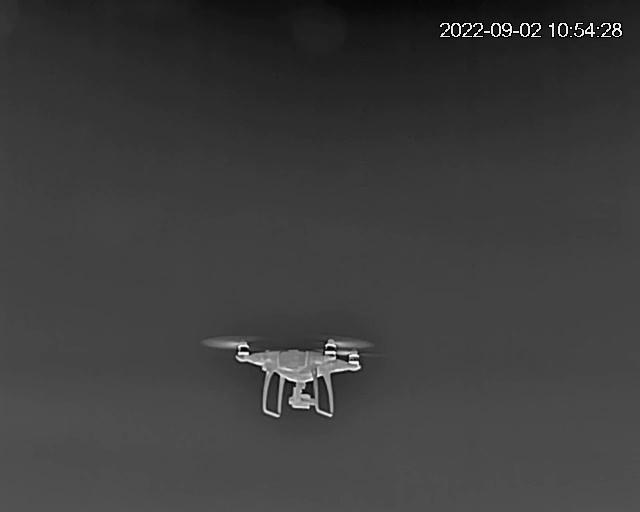DJI-Phantom: (204, 332, 372, 418)
